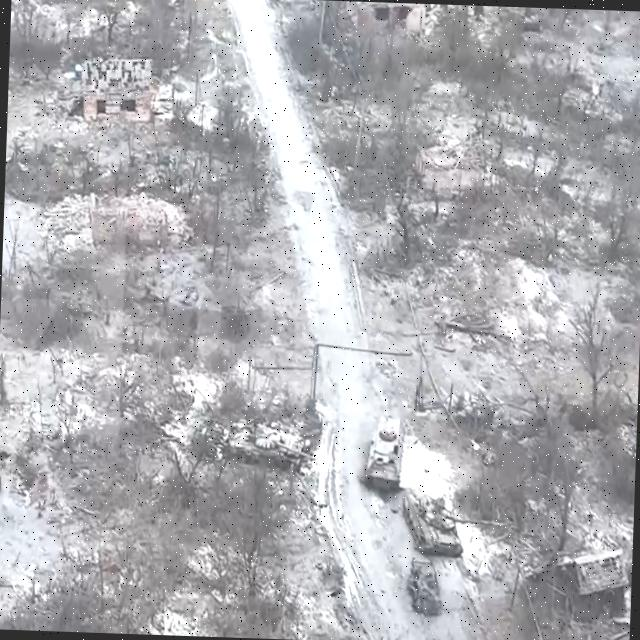APC: (400, 489, 510, 558), (363, 413, 409, 494)
Destroyed: (403, 556, 447, 619)
MBT: (223, 418, 320, 473)
